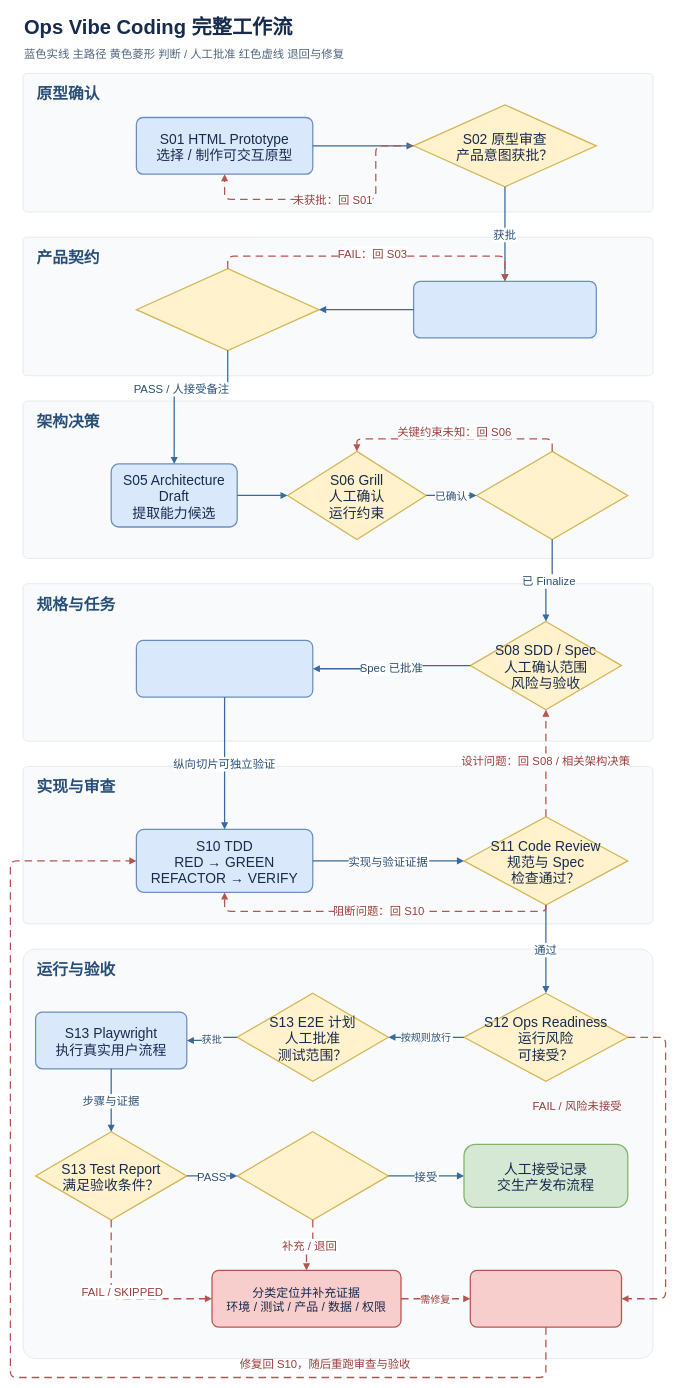
This 676x1388 diagram has some shape labels left out. The centre of each missing label's shape, as x and y in pixels:
"S03 React + Mock 可运行产品契约" goes at point 505,309.
"S04 Parity Gate 视觉与交互一致？" goes at point 227,309.
"S07 Architecture Final 关键约束齐备？" goes at point 552,495.
"S09 纵向 Tickets 一项一个上下文" goes at point 224,668.
"S14 人工验收 解决最初问题？" goes at point 312,1175.
"有边界的修复 Ticket 确认权限后实施" goes at point 545,1298.
